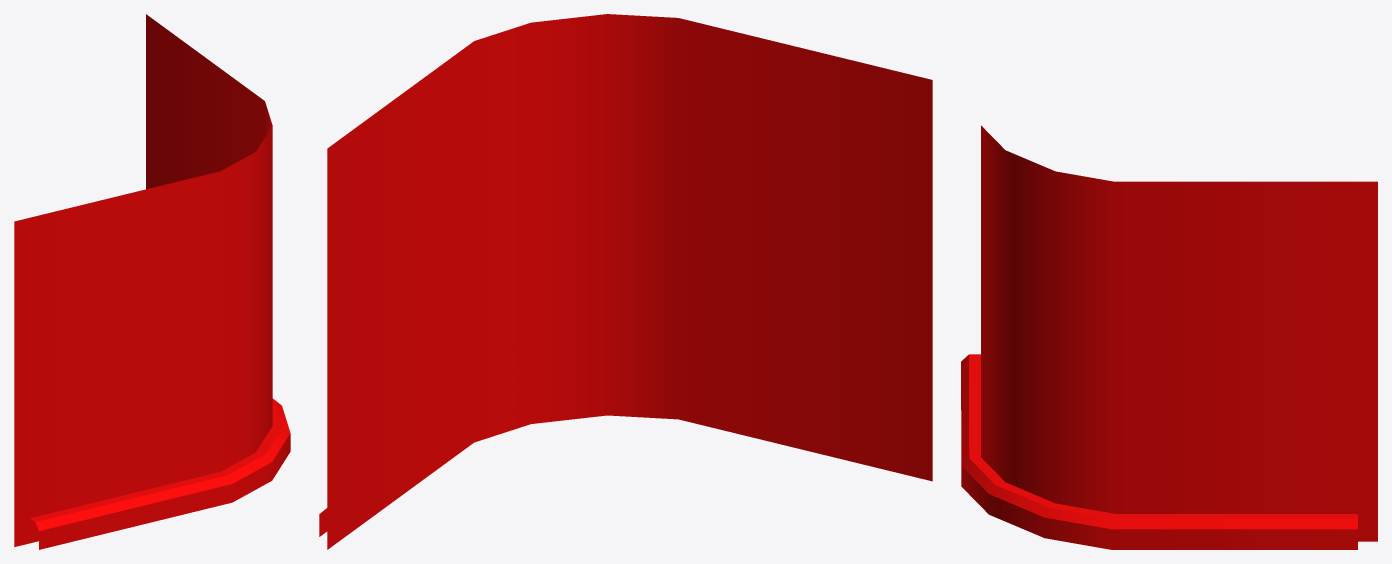
Rendered from Sewer_Wall_Bend.FBX.
The picture shows the model from 3 angles, left to right: view 1: azimuth 30°, elevation 25°; view 2: azimuth 150°, elevation 25°; view 3: azimuth 270°, elevation 25°; orthographic projection. The views are drawn at different scales.
Parts seen in each view (by area): view 1: Sewer_Wall_Bend; view 2: Sewer_Wall_Bend; view 3: Sewer_Wall_Bend.
Boxes of the visible parts, x1=… form: Sewer_Wall_Bend: x1=14, y1=14, x2=290, y2=549; Sewer_Wall_Bend: x1=319, y1=14, x2=932, y2=549; Sewer_Wall_Bend: x1=961, y1=125, x2=1377, y2=549.
Bounding box in the file's own units: 210 × 200 × 210.
